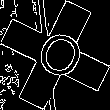O_SW: (24, 23, 86, 87)
